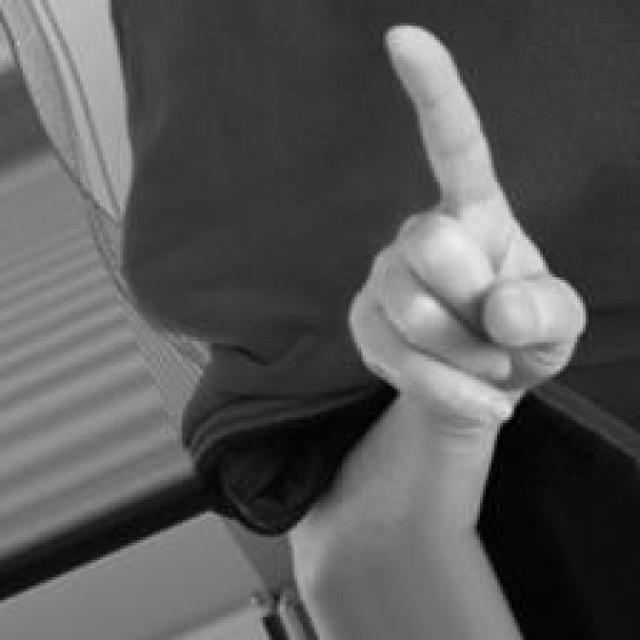I: (340, 20, 594, 444)
